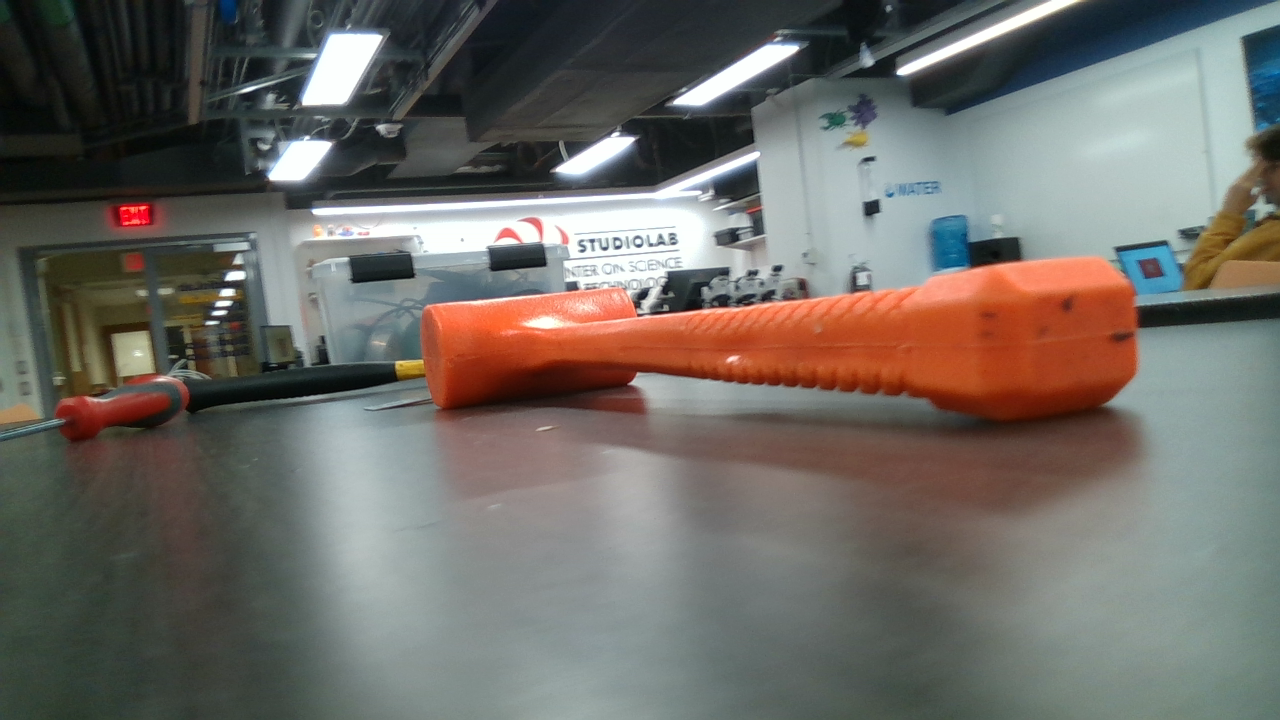Orange Hammer: (425, 257, 1136, 421)
